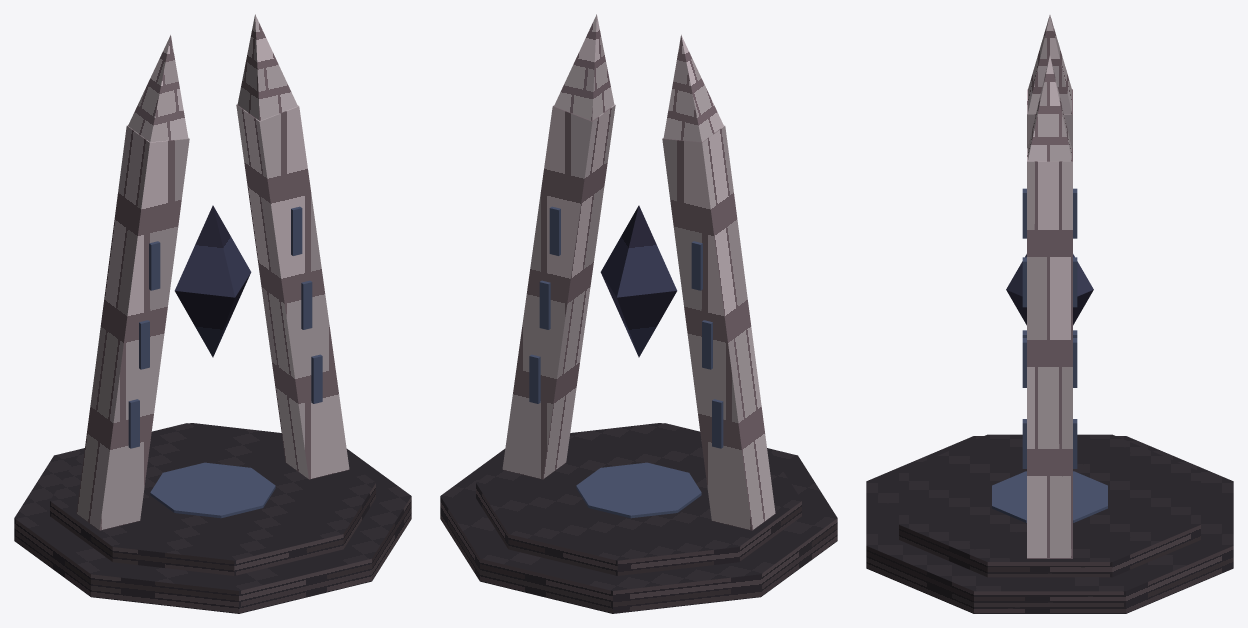
The model's file is teleporter_C_ruhend.glb.
The picture shows the model from 3 angles, left to right: view 1: azimuth 30°, elevation 25°; view 2: azimuth 150°, elevation 25°; view 3: azimuth 270°, elevation 25°; orthographic projection.
Visible parts, largest first — view 1: body, glow; view 2: body, glow; view 3: body, glow.
Part boxes in pixels (bbox=[...]): body: bbox=[14, 14, 411, 613]; glow: bbox=[174, 205, 251, 357]; body: bbox=[440, 14, 837, 613]; glow: bbox=[600, 205, 677, 357]; body: bbox=[866, 15, 1233, 613]; glow: bbox=[1006, 254, 1093, 325].
Bounding box in the file's own units: 1.76 × 2.65 × 1.76.
Materials: 1 (1 with a texture image).
